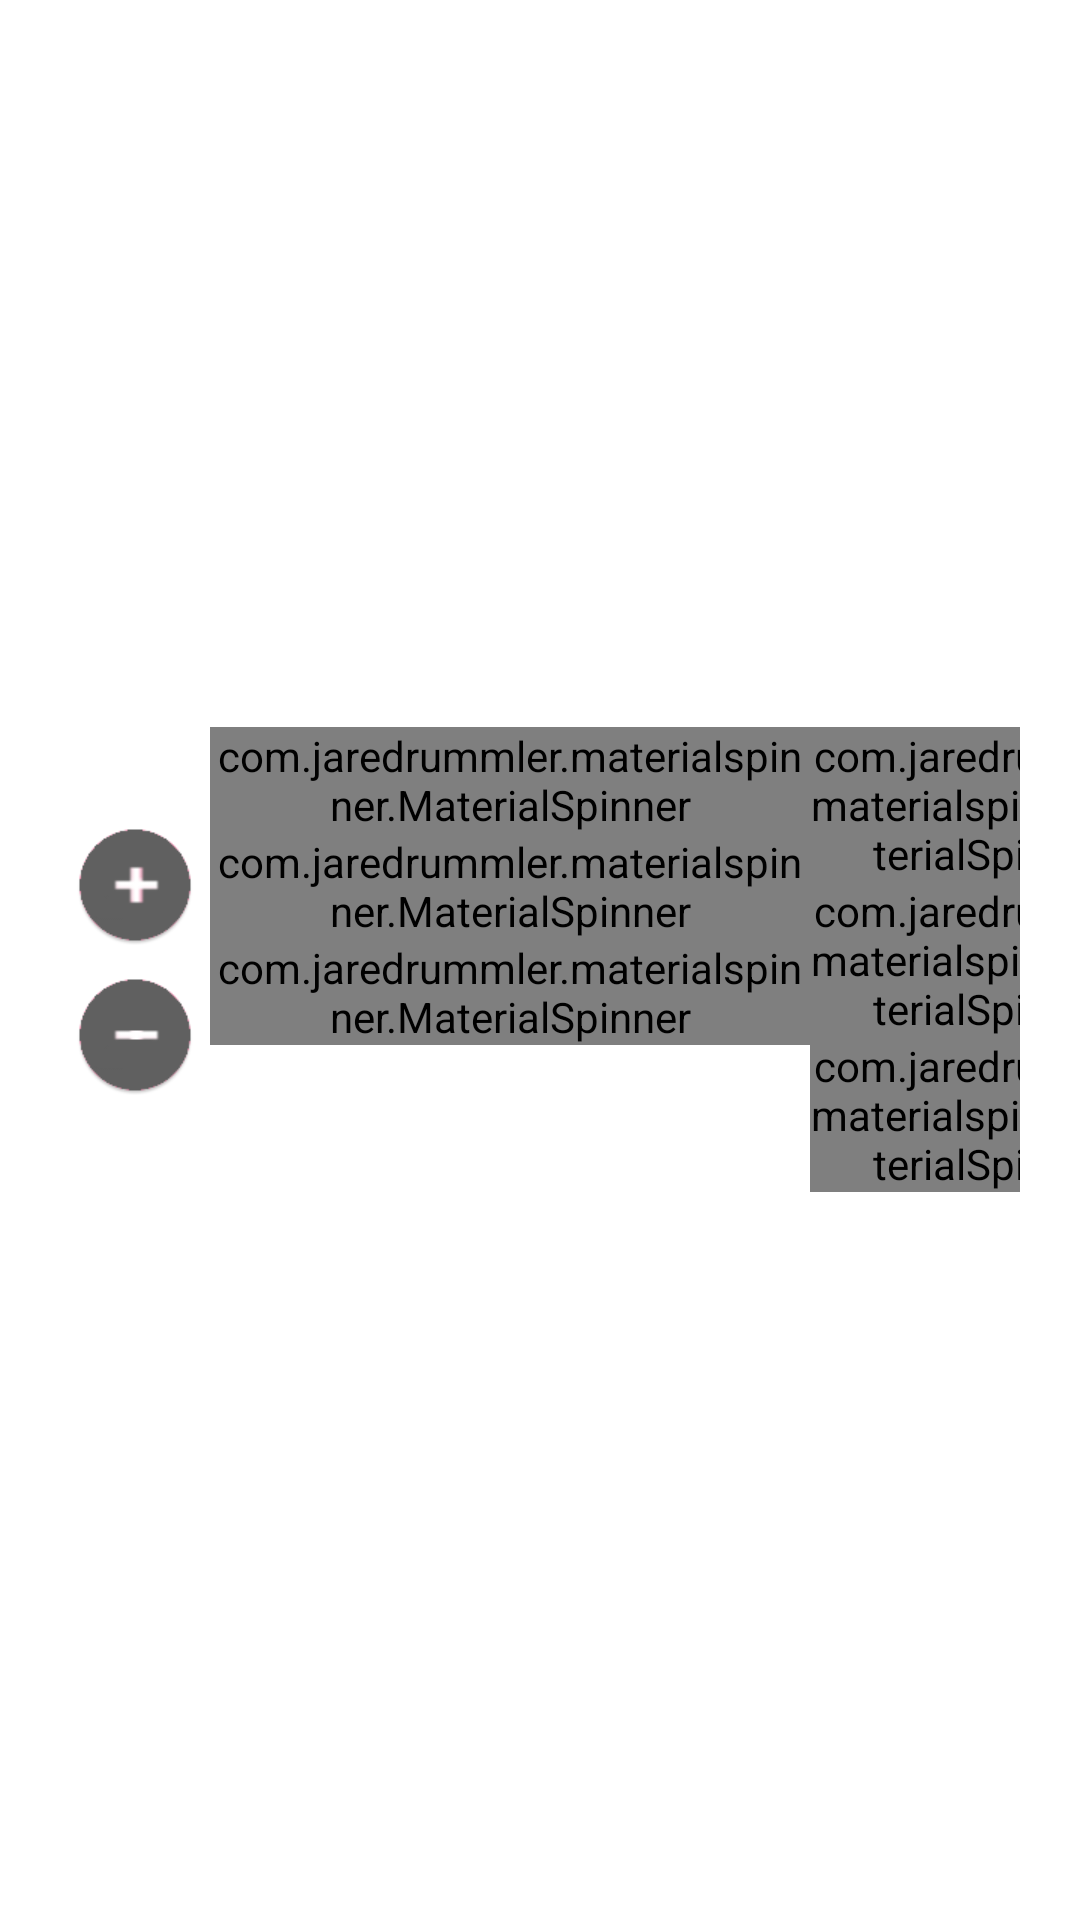

Icons on this 1080px x 1920px Android screen, each with the point to tap as (x=x, y=y):
minusbutton: (x=135, y=1036)
plusbutton: (x=135, y=886)
